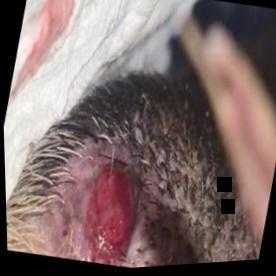skin_lesions: (74, 152, 150, 271)
